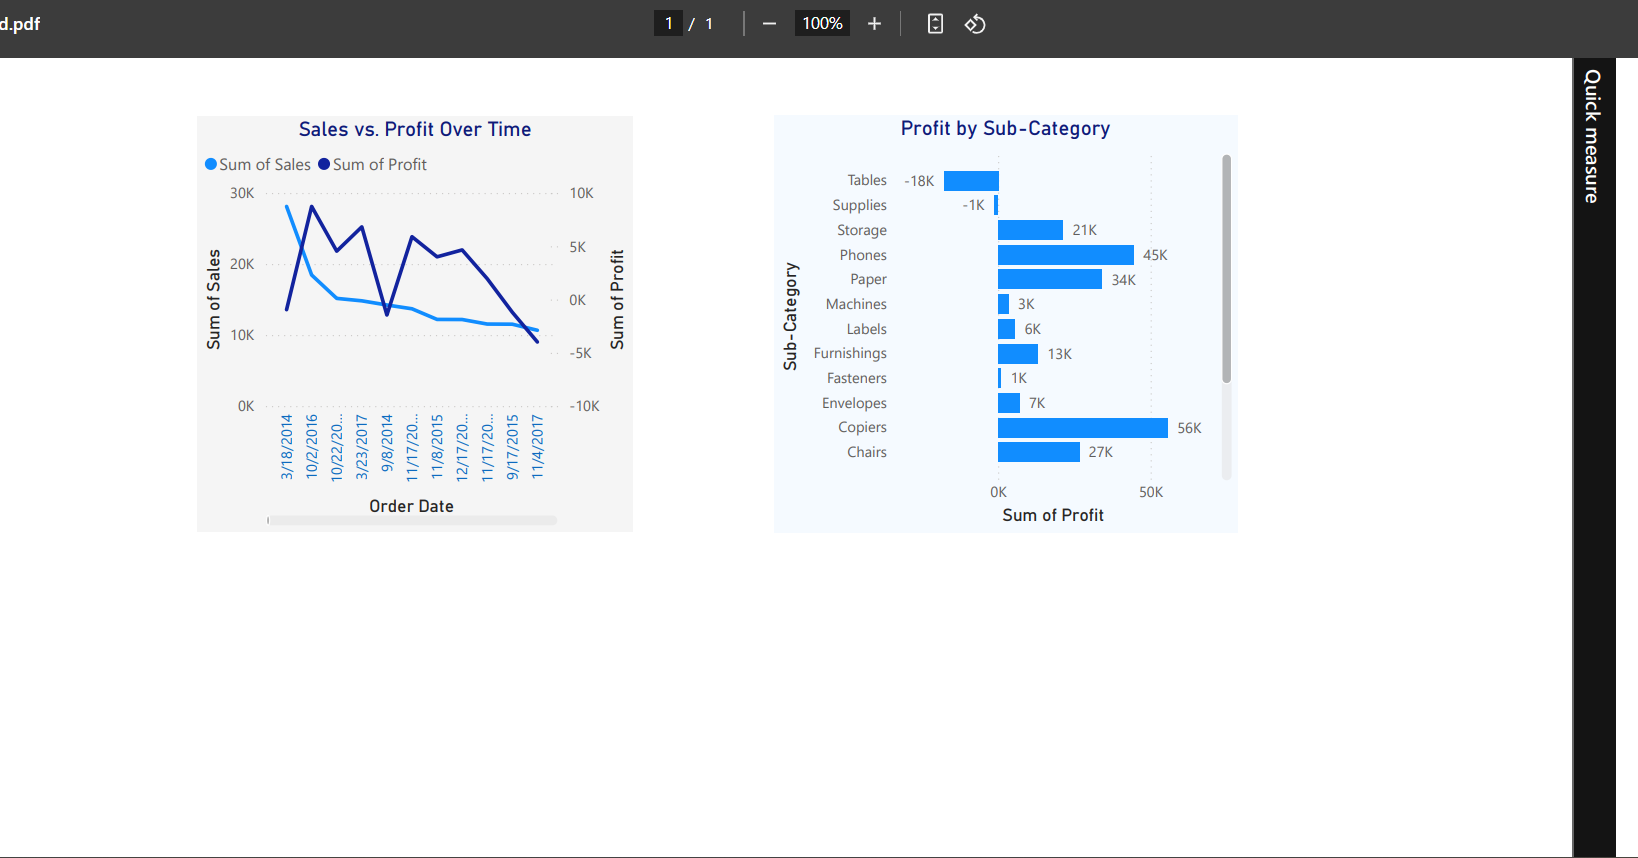

What the dashboard file says about the page in this screenshot:
{"tool":"powerbi","page":{"name":"Page 1","canvas":[1280,720],"ordinal":0},"visuals":[{"type":"lineChart","title":"Sales vs. Profit Over Time","fields":{"Category":["Sample - Superstore.Order Date"],"Y":["Sum(Sample - Superstore.Sales)"],"Y2":["Sum(Sample - Superstore.Profit)"]},"box":[149.6,68.6,358.1,341.7],"z":0},{"type":"clusteredBarChart","title":"Profit by Sub-Category","fields":{"Category":["Sample - Superstore.Sub-Category"],"Y":["Sum(Sample - Superstore.Profit)"]},"box":[624.3,68.4,380.6,342.1],"z":1}]}

Visuals, with their boxes on the page's 1280x720 design canvas (x1, y1, x2, y2). These are canvas units, not pixel positions in the 1638x858 screenshot, which may show the page scaled, cropped or inside an application window:
"Sales vs. Profit Over Time" lineChart: locate(150, 69, 508, 410)
"Profit by Sub-Category" clusteredBarChart: locate(624, 68, 1005, 410)
